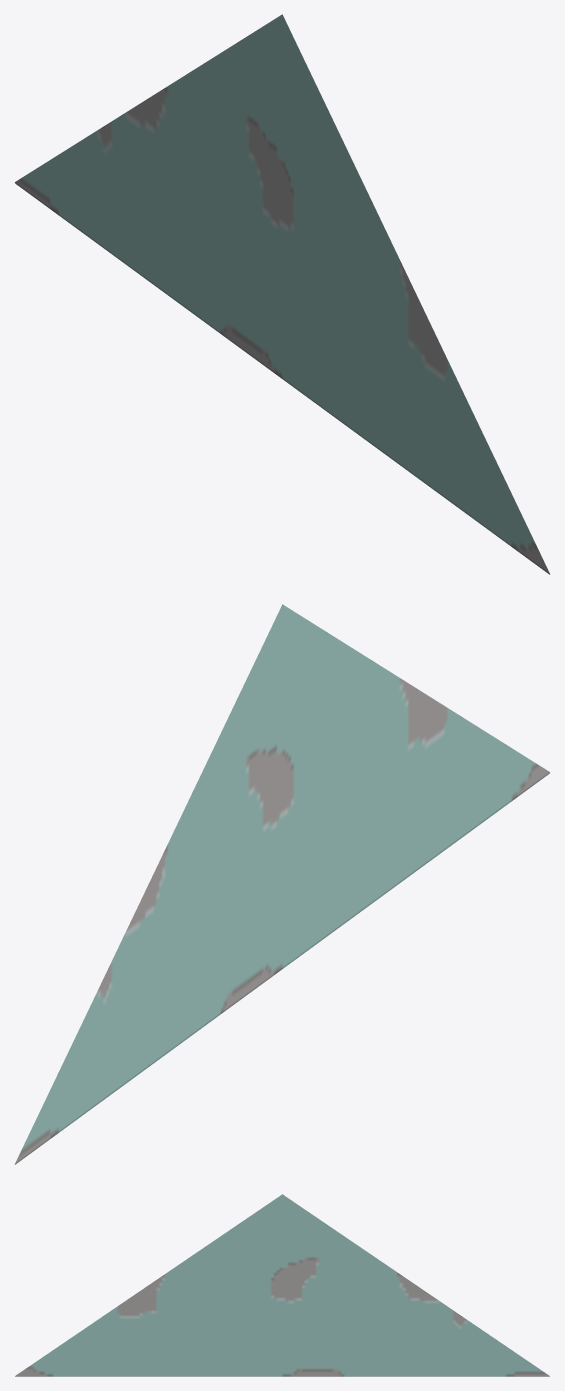
File: TrianguloAzul2.fbx
3 views of the same model, one above another, from view 1: azimuth 30°, elevation 25°; view 2: azimuth 150°, elevation 25°; view 3: azimuth 270°, elevation 25° (orthographic). The views are drawn at different scales.
Visible parts, largest first — view 1: plane; view 2: plane; view 3: plane.
Part boxes in pixels (<box>): plane: <box>15,14,550,574</box>; plane: <box>14,604,549,1164</box>; plane: <box>15,1194,549,1376</box>.
Size of the model in its own units: 1.84e-14 by 113 by 300.
1 material, 1 textured.
